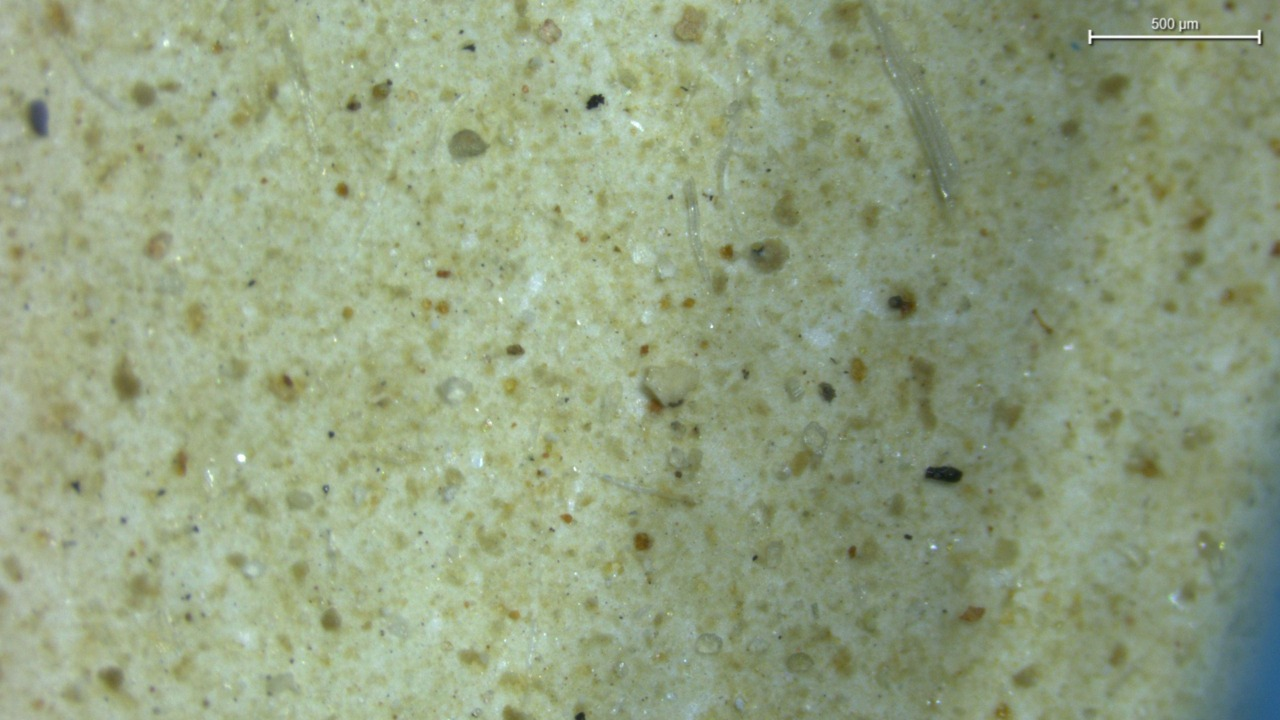microplastic_fragment: (645, 365, 699, 406), (436, 376, 473, 404)
